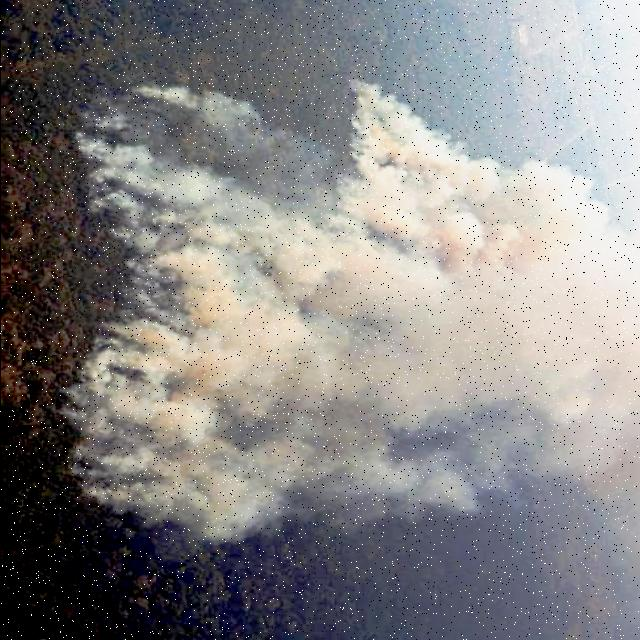asap: (83, 68, 629, 539)
